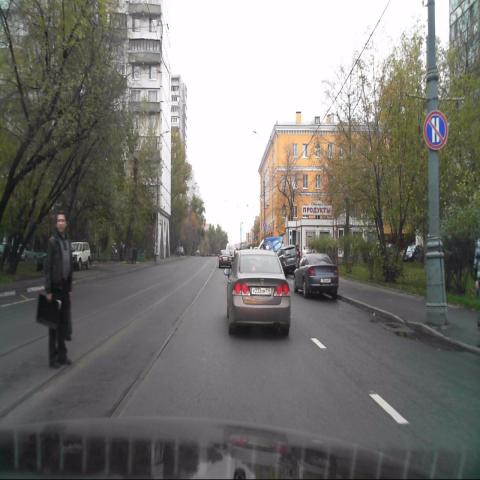3_30: (423, 110, 448, 150)
